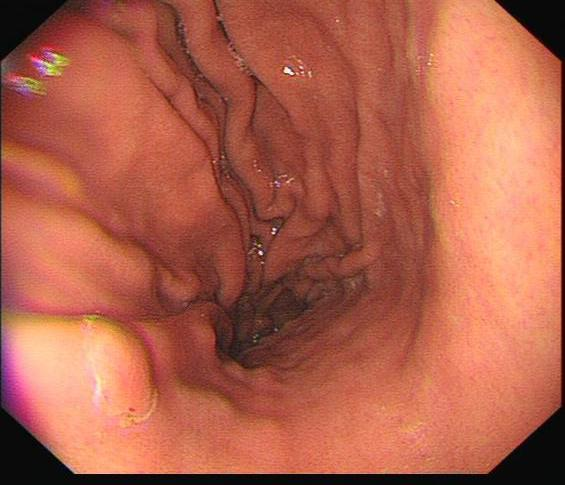Polyp: (82, 313, 156, 425)
